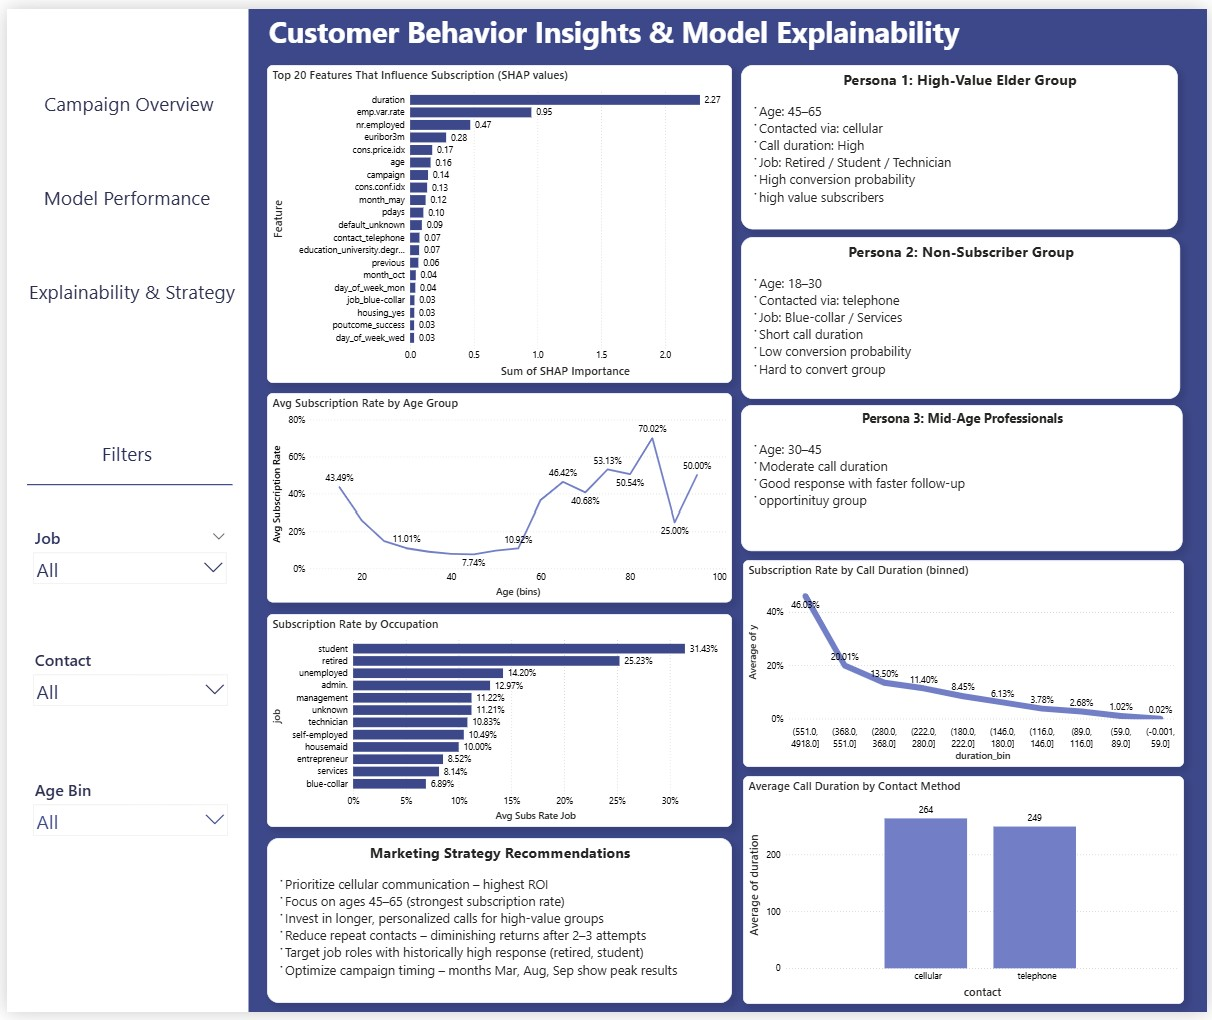

What the dashboard file says about the page in this screenshot:
{"tool":"powerbi","page":{"name":"Page 3","canvas":[2000,1670],"ordinal":2},"visuals":[{"type":"clusteredBarChart","title":"Top 20 Features That Influence Subscription (SHAP values)","fields":{"Category":["shap_feature_importance.Feature"],"Y":["Sum(shap_feature_importance.SHAP Importance)"]},"box":[432.5,92.5,775,530],"z":0},{"type":"lineChart","title":"Avg Subscription Rate by Age Group","fields":{"Y":["age_effect.Avg Subscription Rate"],"Category":["age_effect.Age (bins)"]},"box":[432.5,640,775,347.5],"z":2000},{"type":"lineChart","title":"Subscription Rate by Call Duration (binned)","fields":{"Category":["duration_effect.duration_bin"],"Y":["Avg(duration_effect.y)"]},"box":[1225,917.5,735,345],"z":3000},{"type":"clusteredBarChart","title":"Subscription Rate by Occupation","fields":{"Category":["job_effect.job"],"Y":["job_effect.Avg Subs Rate Job"]},"box":[432.5,1007.5,775,355],"z":4000},{"type":"textbox","title":"Persona 1: High-Value Elder Group","box":[1224,92,728,274],"z":5000},{"type":"textbox","title":"Persona 2: Non-Subscriber Group","box":[1224,380,732,270],"z":6000},{"type":"textbox","title":"Persona 3: Mid-Age Professionals","box":[1224,660,736,242],"z":7000},{"type":"textbox","title":"Marketing Strategy Recommendations","box":[432.5,1380,775,275],"z":8000},{"type":"clusteredColumnChart","title":"Average Call Duration by Contact Method","fields":{"Category":["contact_duration.contact"],"Y":["Avg(contact_duration.duration)"]},"box":[1225,1277.5,735,380],"z":9000},{"type":"textbox","box":[376.7,0,1270,93.3],"z":10000},{"type":"shape","box":[0,0,402.5,1670],"z":10500,"group":"g1"},{"type":"slicer","fields":{"Values":["bank_marketing_bi_raw.contact"]},"box":[32.5,1060.4,345,168.7],"z":11000,"group":"g1"},{"type":"slicer","fields":{"Values":["bank_marketing_bi_raw.job"]},"box":[32.5,857.2,342.5,168.7],"z":12000,"group":"g1"},{"type":"slicer","fields":{"Values":["bank_marketing_bi_raw.Age Bin"]},"box":[32.5,1277.2,345,172.1],"z":13000,"group":"g1"},{"type":"textbox","box":[42.5,130.8,320,79.2],"z":14000,"group":"g1"},{"type":"textbox","box":[50,286.7,300,80],"z":15000,"group":"g1"},{"type":"textbox","box":[16.7,443.3,383.3,96.7],"z":16000,"group":"g1"},{"type":"textbox","box":[50,713.3,300,80],"z":17000,"group":"g1"},{"type":"shape","box":[32.5,760.8,342.5,65.4],"z":18000,"group":"g1"},{"type":"group","id":"g1","title":"Group 1","box":[0,0,402.5,1670],"z":18001}]}

Visuals, with their boxes in screenshot pixels (x1, y1, x2, y2):
"Top 20 Features That Influence Subscription (SHAP values)" clusteredBarChart: left=265, top=62, right=728, bottom=378
"Avg Subscription Rate by Age Group" lineChart: left=265, top=389, right=728, bottom=596
"Subscription Rate by Call Duration (binned)" lineChart: left=738, top=555, right=1178, bottom=761
"Subscription Rate by Occupation" clusteredBarChart: left=265, top=608, right=728, bottom=821
"Persona 1: High-Value Elder Group" textbox: left=738, top=61, right=1173, bottom=225
"Persona 2: Non-Subscriber Group" textbox: left=738, top=233, right=1175, bottom=395
"Persona 3: Mid-Age Professionals" textbox: left=738, top=401, right=1178, bottom=545
"Marketing Strategy Recommendations" textbox: left=265, top=831, right=728, bottom=995
"Average Call Duration by Contact Method" clusteredColumnChart: left=738, top=770, right=1178, bottom=997
textbox: left=231, top=6, right=990, bottom=62
shape: left=6, top=6, right=247, bottom=1004
slicer - bank_marketing_bi_raw.contact: left=26, top=640, right=232, bottom=741
slicer - bank_marketing_bi_raw.job: left=26, top=519, right=230, bottom=619
slicer - bank_marketing_bi_raw.Age Bin: left=26, top=770, right=232, bottom=872
textbox: left=32, top=84, right=223, bottom=132
textbox: left=36, top=178, right=215, bottom=225
textbox: left=16, top=271, right=245, bottom=329
textbox: left=36, top=433, right=215, bottom=480
shape: left=26, top=461, right=230, bottom=500
"Group 1" group: left=6, top=6, right=247, bottom=1004
